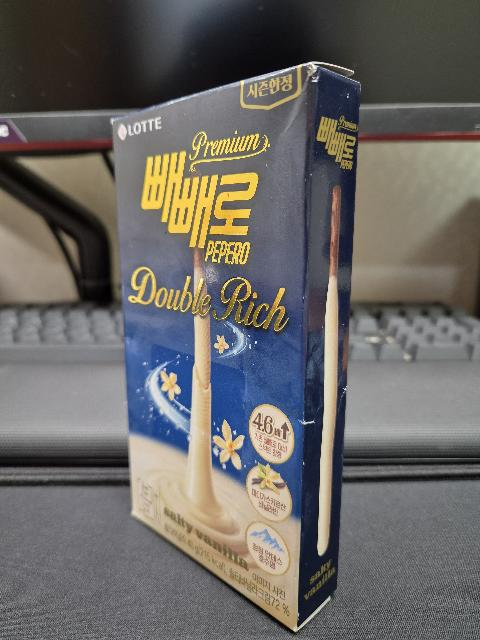pepero: (109, 62, 362, 633)
